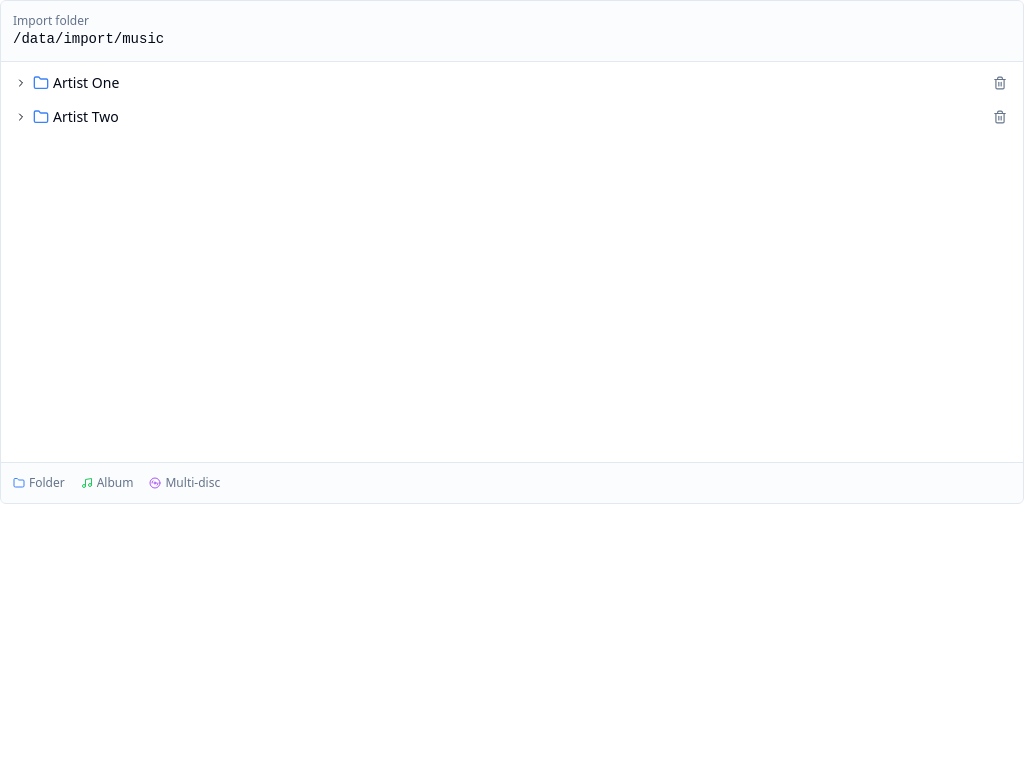
Test case: ImportFolderTree › Folder deletion › shows an error and keeps the dialog open when the delete fails
The width and height of the screenshot is (1024, 768).
Click the button named "Delete folder Artist Two": {"x": 1000, "y": 117} [989,106,1011,128]
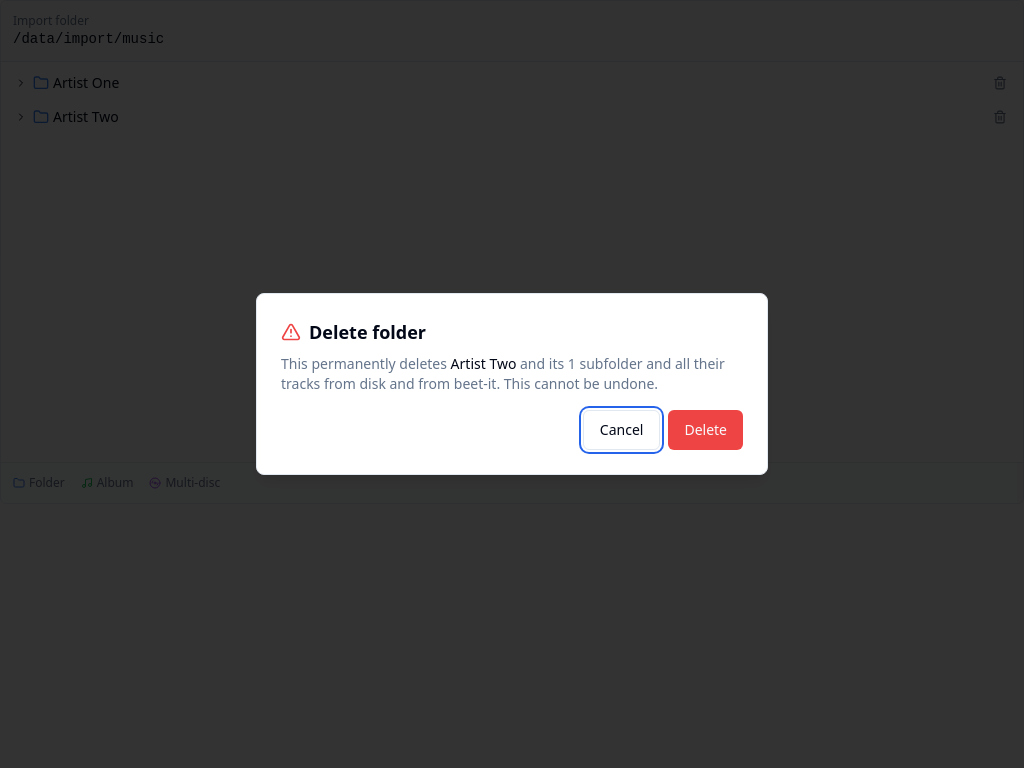
Expected: the heading "Delete folder" is shown, [281,320,426,344]
Click the button "Delete": {"x": 706, "y": 430} [668,410,743,450]
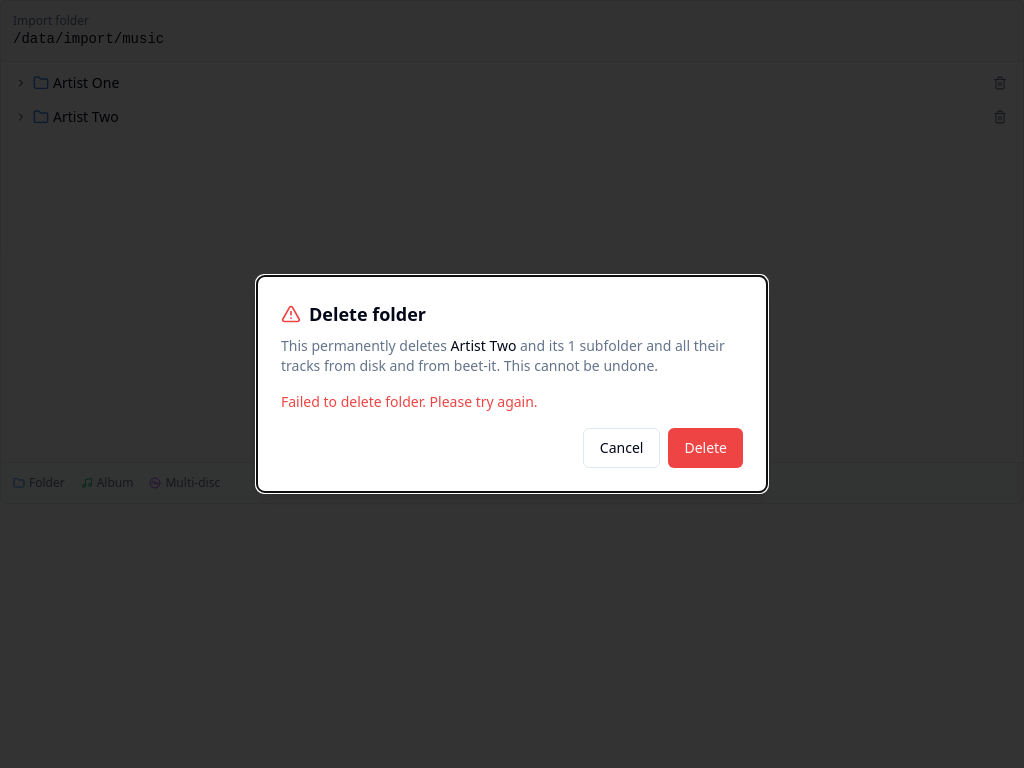
Expected: the text "Failed to delete folder. Please try again." is shown, [281,392,538,411]
